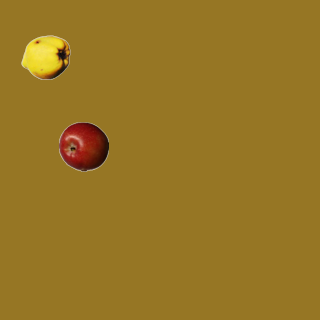Apple Braeburn: (58, 121, 108, 171)
Quince: (20, 32, 70, 82)
